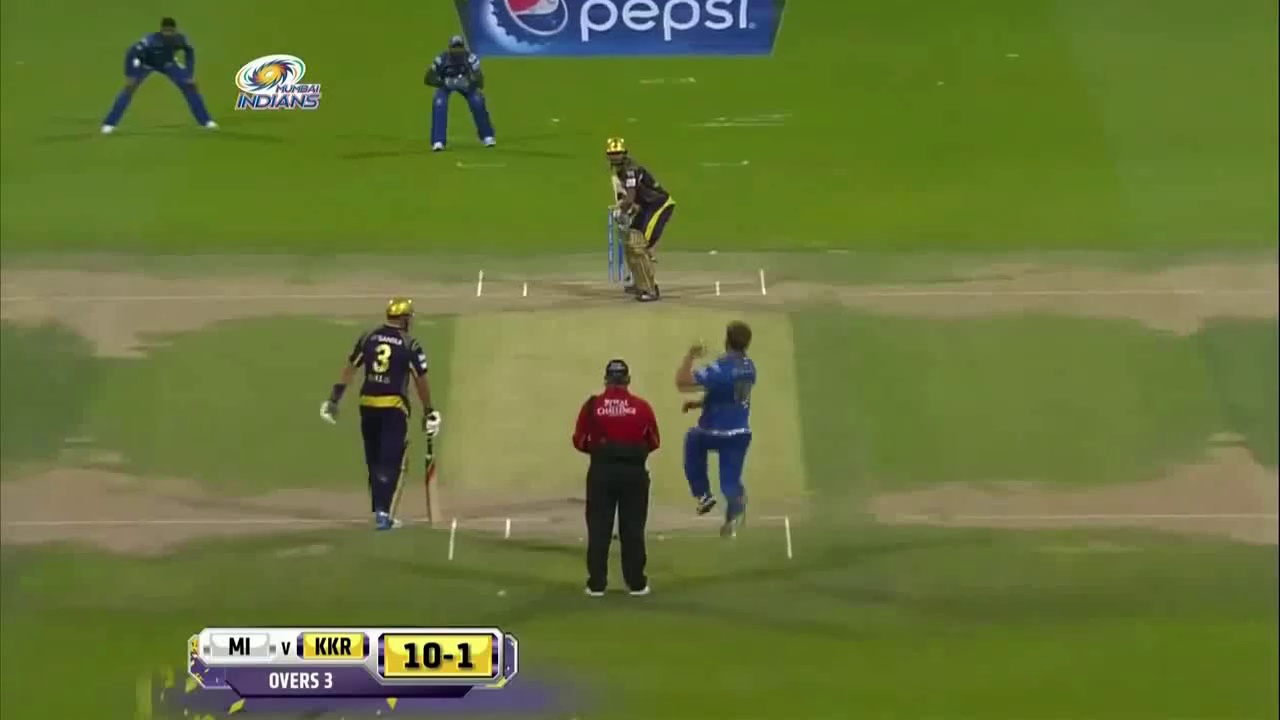bat: (422, 437, 443, 525)
